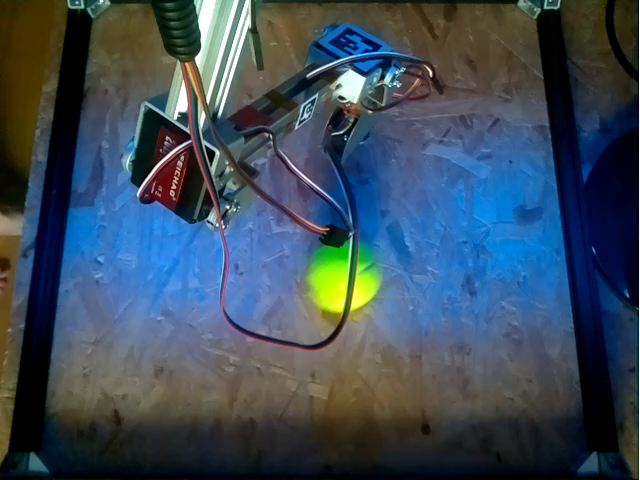tennis_ball: (306, 235, 380, 313)
